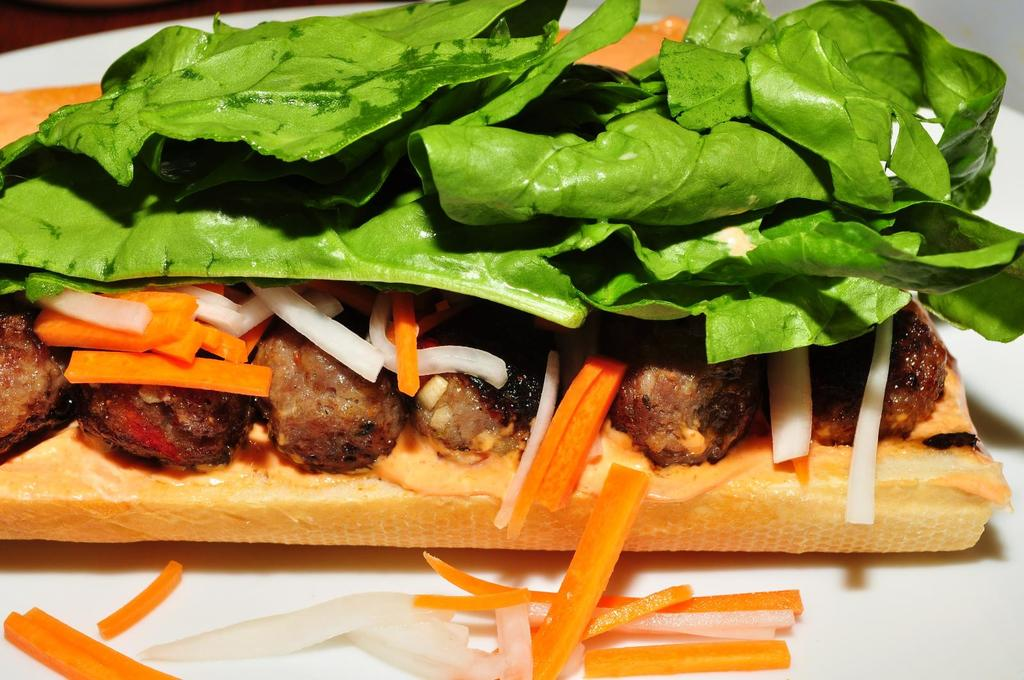sandwich: (0, 0, 1023, 555)
